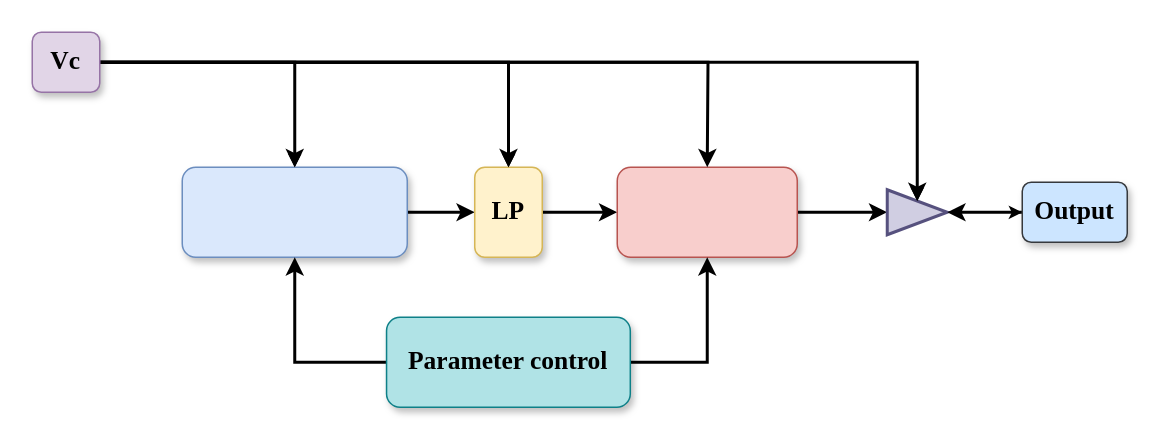
Image size: 1163x444. Some labels were removed from this diagram. The centre of each missing label's shape, as x and y in pixels:
Bell Model: (708,214)
Excitation Table: (295,214)
